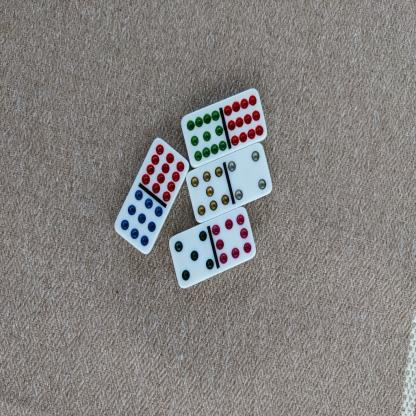pip-11: (179, 107, 226, 165)
pip-12: (140, 136, 189, 201), (224, 88, 267, 147)
pip-4: (227, 142, 272, 204)
pip-5: (169, 228, 215, 289)
pip-7: (185, 163, 229, 221)
pip-8: (210, 207, 256, 269)
pip-9: (114, 189, 162, 252)
